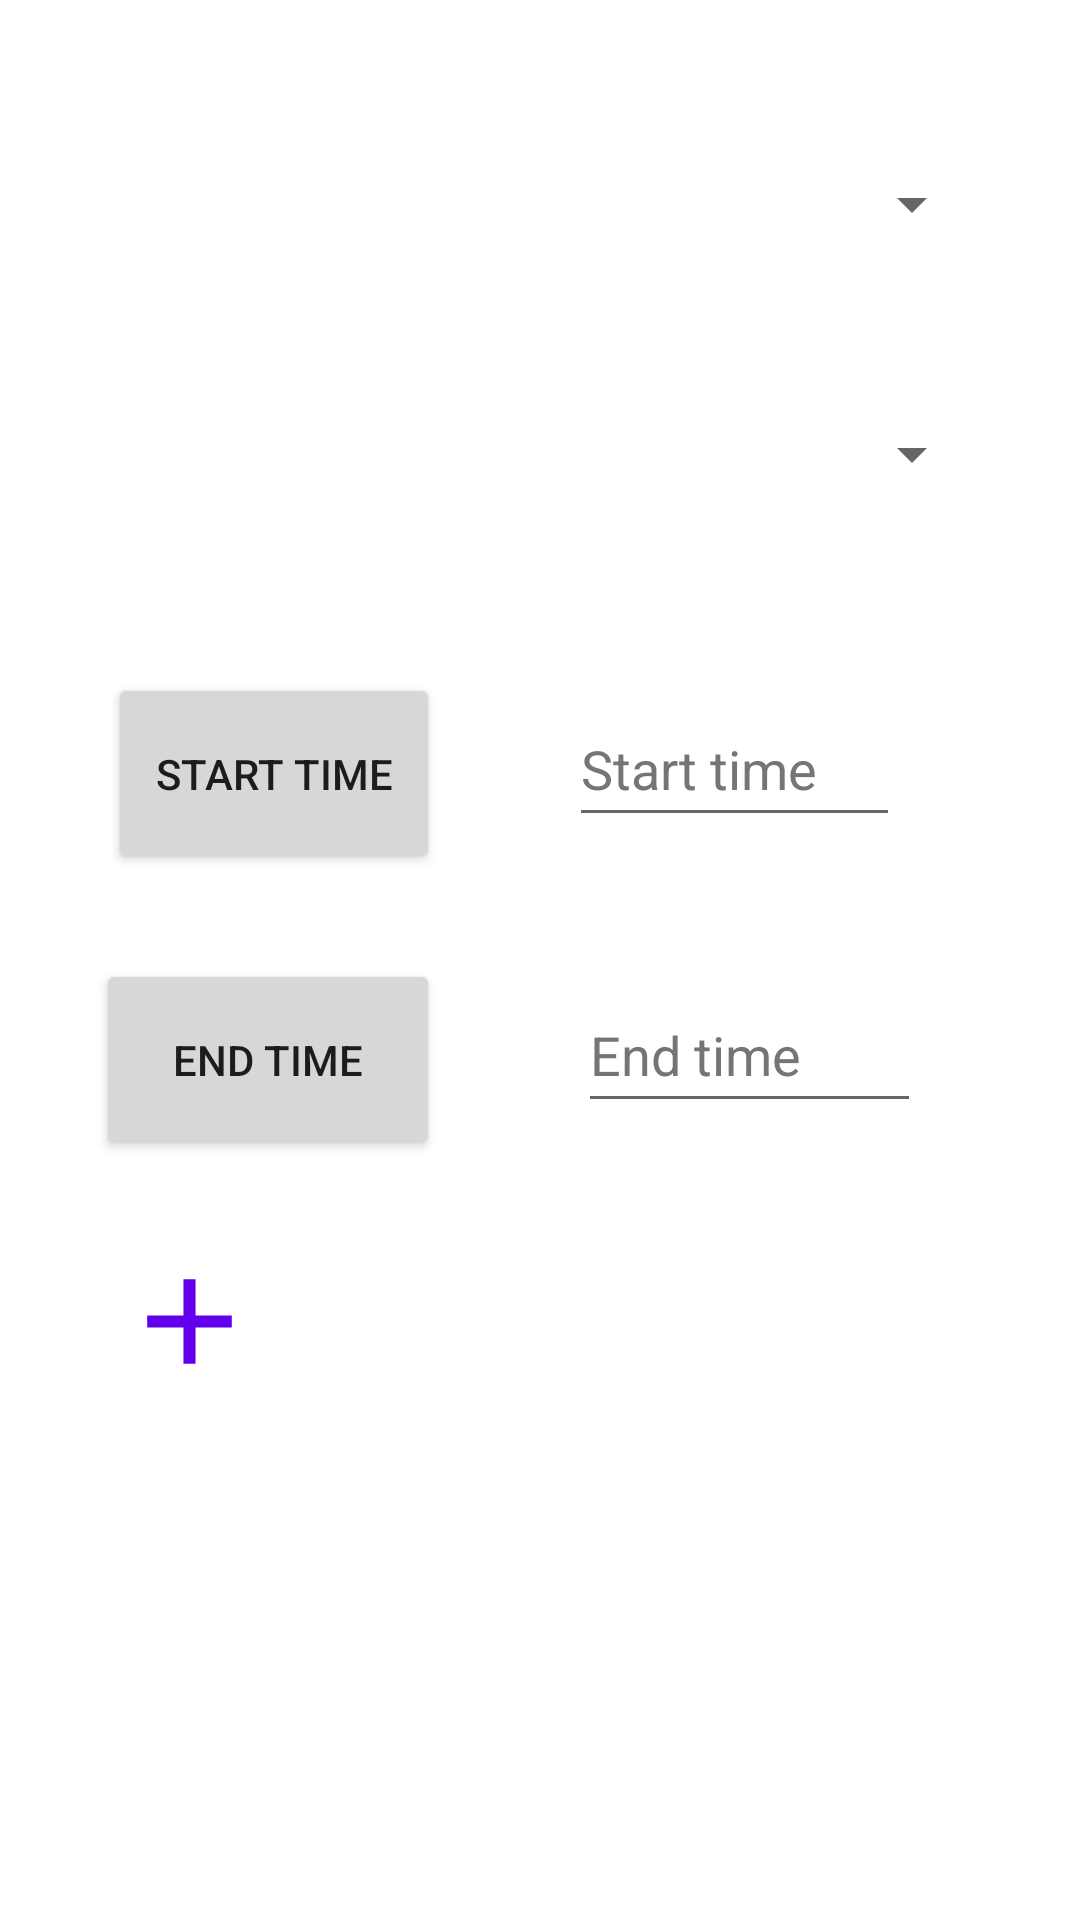

Locate icon controls on the screen. Image size 1080w x 1920h, boxes as (x1, y1, x2, y2).
add new slot: (147, 1279, 232, 1364)
